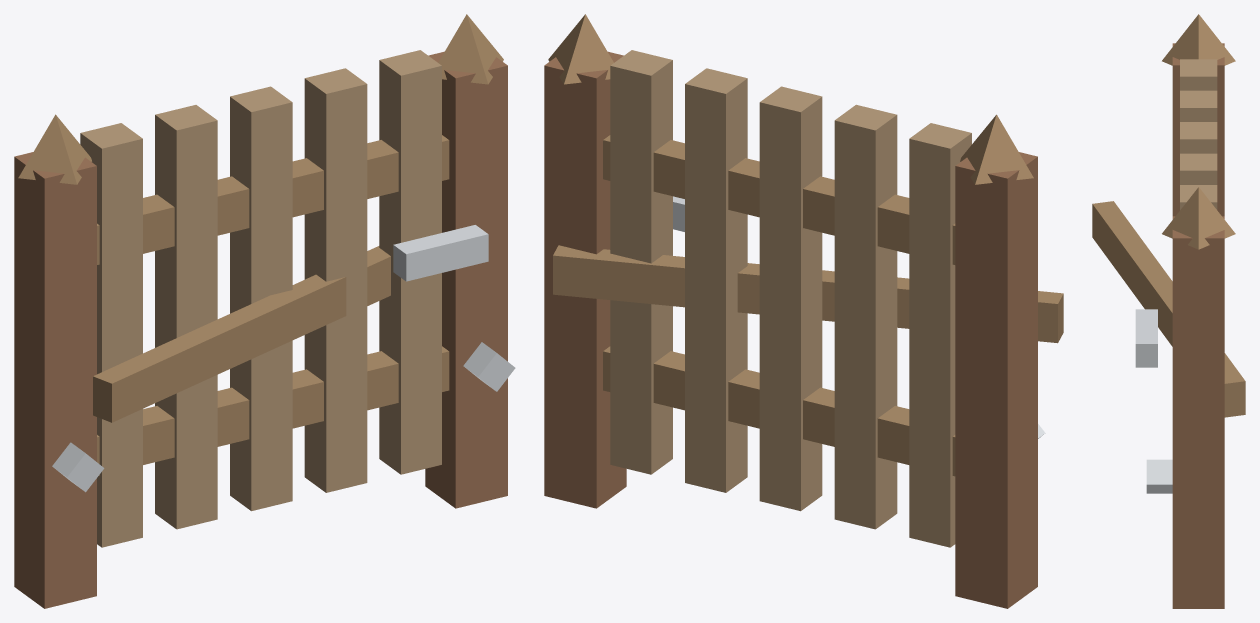
Rendered from fence_gate.glb.
The picture shows the model from 3 angles, left to right: view 1: azimuth 30°, elevation 25°; view 2: azimuth 150°, elevation 25°; view 3: azimuth 270°, elevation 25°; orthographic projection. The views are drawn at different scales.
Visible parts, largest first — view 1: post_0.001, post_1.001, picket_3, picket_4, picket_2, picket_1, picket_0, brace, rail_1, rail_0, latch, post_cap_0 (+3 smaller); view 2: post_0.001, post_1.001, picket_2, picket_1, picket_3, picket_4, picket_0, brace, rail_1, rail_0, post_cap_0, post_cap_1; view 3: post_1.001, brace, post_0.001, post_cap_1, post_cap_0, latch, picket_0, picket_2, picket_1, picket_3, hinge_1, picket_4.
Boxes of the visible parts, bbox=[...] form: post_0.001: bbox=[14, 152, 96, 608]; post_1.001: bbox=[425, 51, 507, 508]; picket_3: bbox=[304, 68, 367, 492]; picket_4: bbox=[379, 50, 441, 474]; picket_2: bbox=[230, 86, 292, 511]; picket_1: bbox=[155, 105, 217, 529]; picket_0: bbox=[80, 123, 142, 547]; brace: bbox=[93, 246, 390, 422]; rail_1: bbox=[97, 135, 449, 264]; rail_0: bbox=[97, 346, 449, 475]; latch: bbox=[393, 225, 488, 281]; post_cap_0: bbox=[18, 114, 91, 184]; post_0.001: bbox=[955, 152, 1037, 608]; post_1.001: bbox=[544, 51, 626, 508]; picket_2: bbox=[759, 86, 822, 511]; picket_1: bbox=[834, 104, 897, 529]; picket_3: bbox=[685, 68, 747, 492]; picket_4: bbox=[610, 50, 672, 474]; picket_0: bbox=[909, 123, 971, 547]; brace: bbox=[553, 245, 1063, 343]; rail_1: bbox=[603, 135, 955, 264]; rail_0: bbox=[603, 346, 955, 476]; post_cap_0: bbox=[960, 114, 1033, 184]; post_cap_1: bbox=[548, 14, 613, 84]; post_1.001: bbox=[1172, 216, 1224, 608]; brace: bbox=[1092, 201, 1245, 417]; post_0.001: bbox=[1172, 43, 1224, 216]; post_cap_1: bbox=[1162, 187, 1235, 249]; post_cap_0: bbox=[1162, 14, 1235, 65]; latch: bbox=[1135, 309, 1157, 367]; picket_0: bbox=[1180, 59, 1217, 90]; picket_2: bbox=[1180, 122, 1217, 153]; picket_1: bbox=[1180, 90, 1217, 121]; picket_3: bbox=[1180, 153, 1217, 184]; hinge_1: bbox=[1146, 459, 1172, 493]; picket_4: bbox=[1180, 185, 1217, 209].
Size of the model in its own units: 1.3 by 1.22 by 0.4119.
